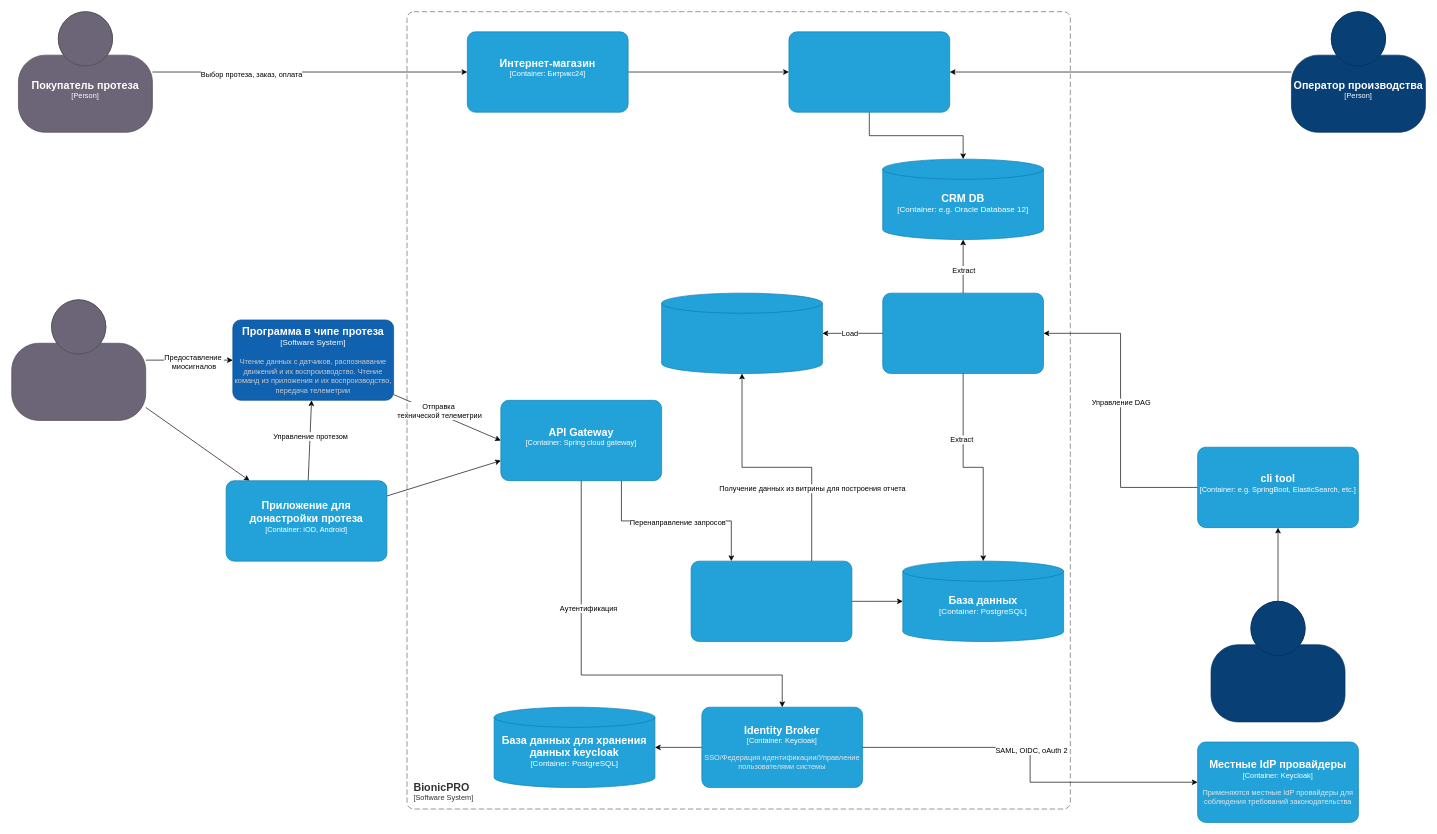
This 1437x834 diagram has some shape labels left out. Each missing label, with the centre of its shape:
"Apache Airflow [Container: Apache Airflow]" belongs at point 963,333.
"API [Container: e.g. SpringBoot, ElasticSearch, etc.]" belongs at point 771,601.
"CRM [Container: Битрикс24]" belongs at point 869,71.
"ML-инженер [Person]" belongs at point 1277,661.
"OLAP БД [Container: ClickHouse]" belongs at point 741,333.
"Пилот протеза [Person] С этого человека считываются данные" belongs at point 78,359.
